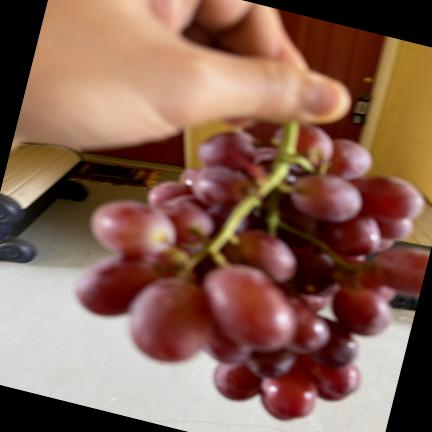grape_cluster: (77, 123, 430, 419)
